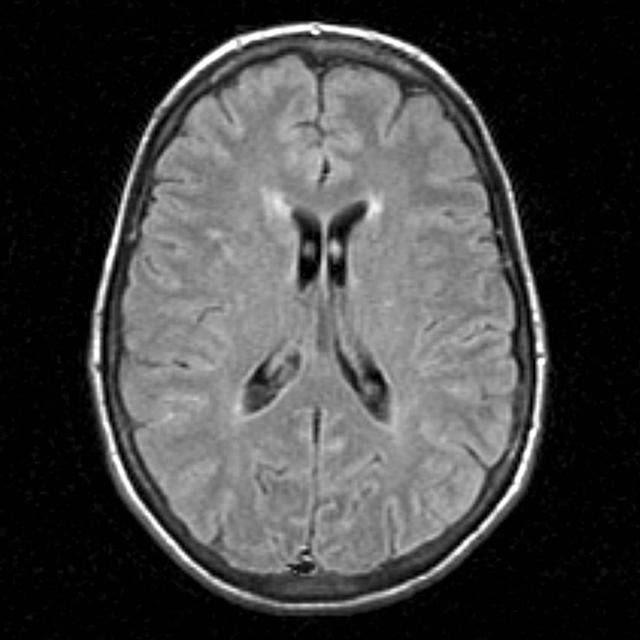No_Tumor: (89, 24, 547, 613)
